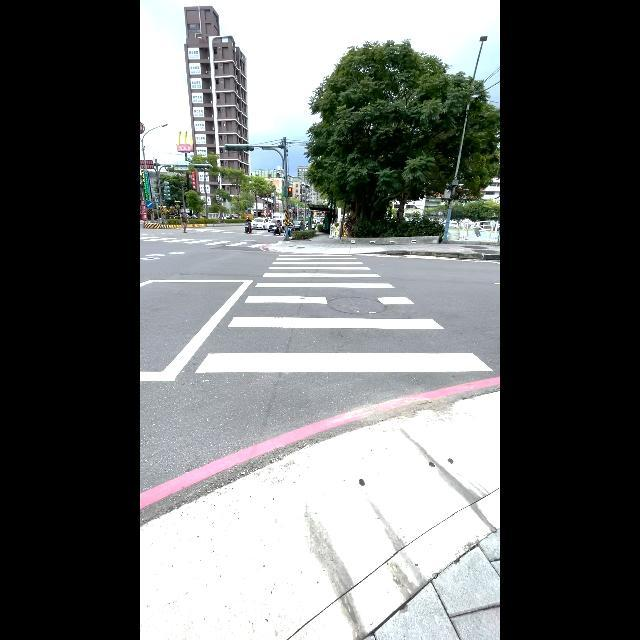sidewalk: (195, 251, 496, 375)
